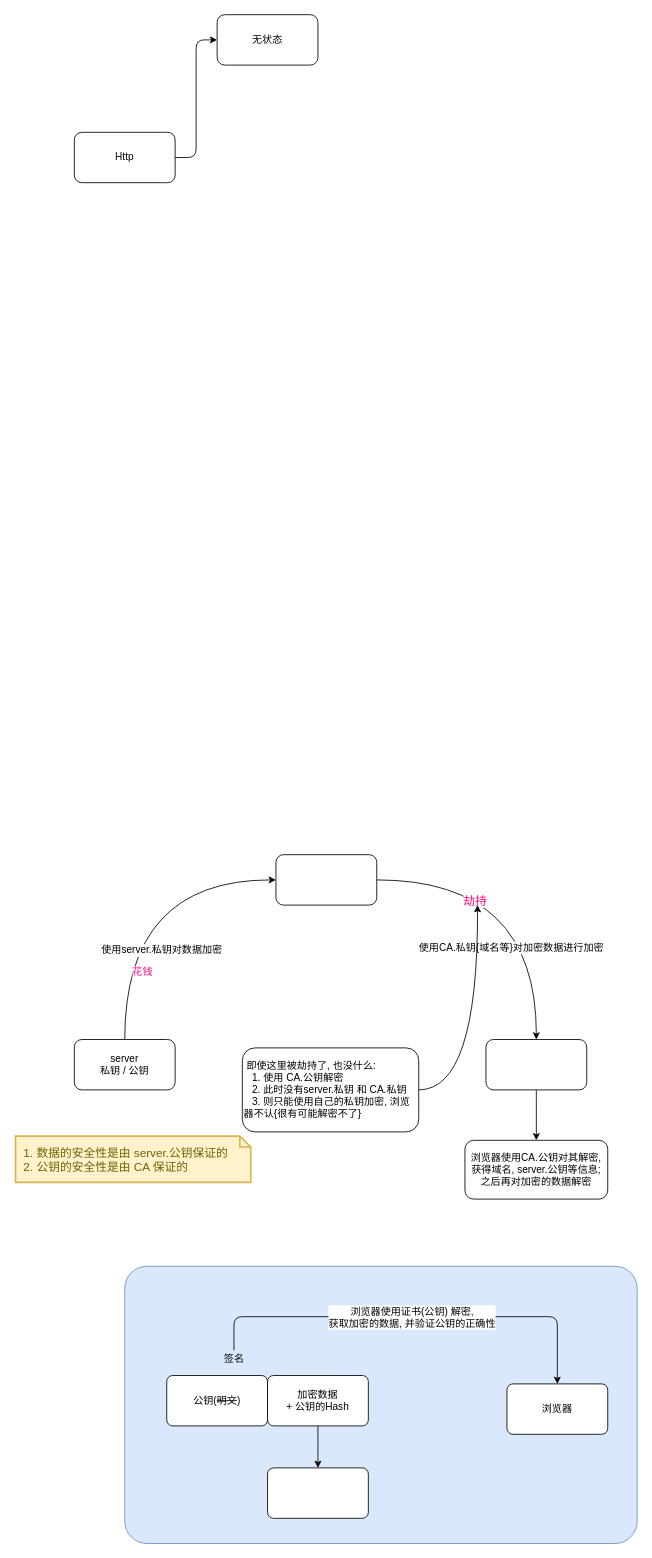
This 652x1558 diagram has some shape labels left out. The box of each missing label's shape, as (x1, y1, x2, y2) in pixels:
Brower 安装CA的证书(公钥) CA 会花钱: (485, 1039, 587, 1090)
CA 私钥{绝对安全} CA 会赔钱: (275, 854, 377, 905)
TBD: (124, 1265, 637, 1544)
整体使用私钥加密: (267, 1467, 368, 1518)
